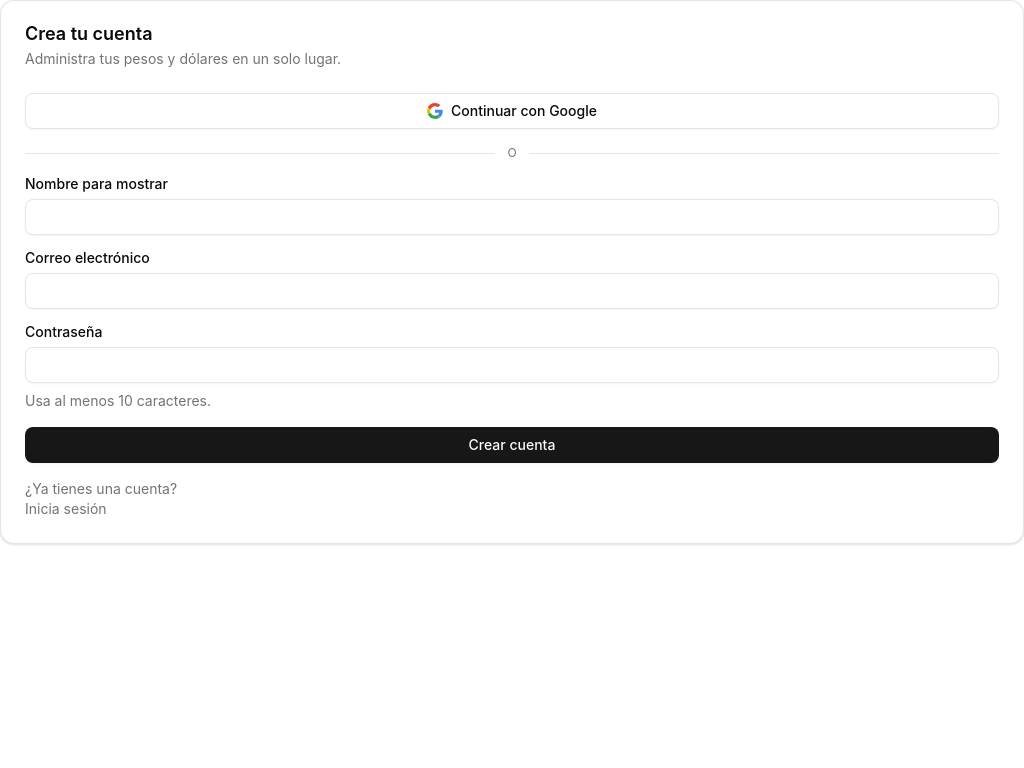
Test: RegisterContainer › a display name that is empty sends no request and focuses the field
Type "ana@example.com" into the field labelled "Correo electrónico" at (512, 291), box [25,273,999,309]
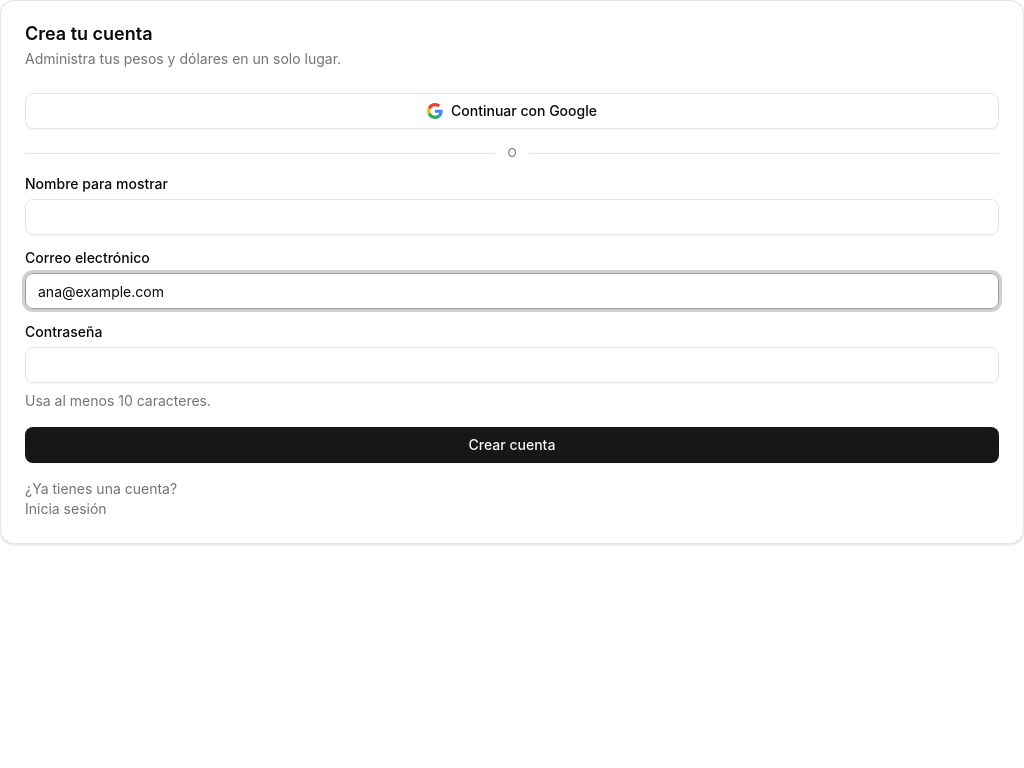
Type "correct horse battery" into the password field labelled "Contraseña" at (512, 365), box [25,347,999,383]
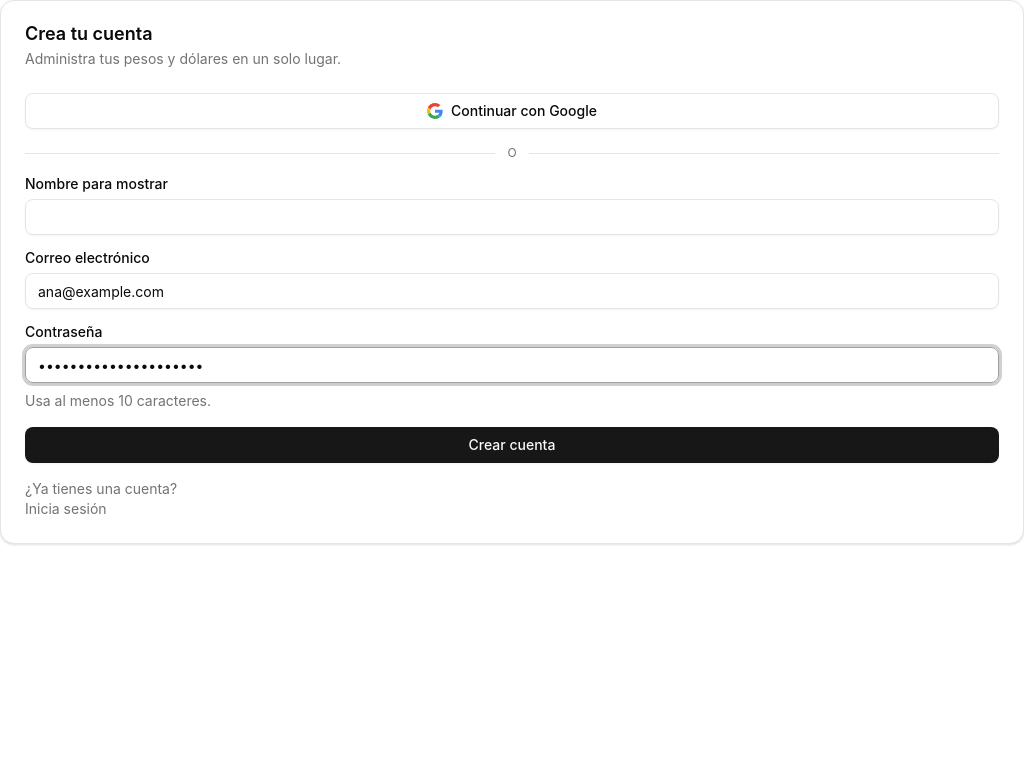
Click the button "Crear cuenta" at (512, 445), box [25,427,999,463]
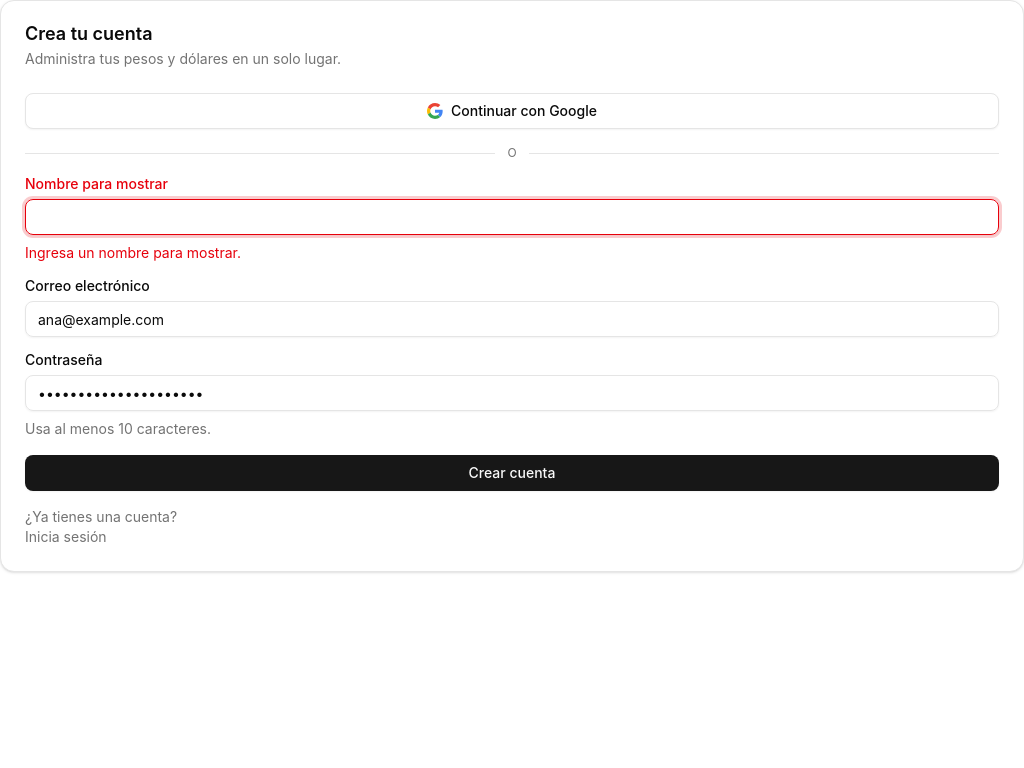
Now the text "Ingresa un nombre para mostrar." is shown, box [25,244,241,261]
